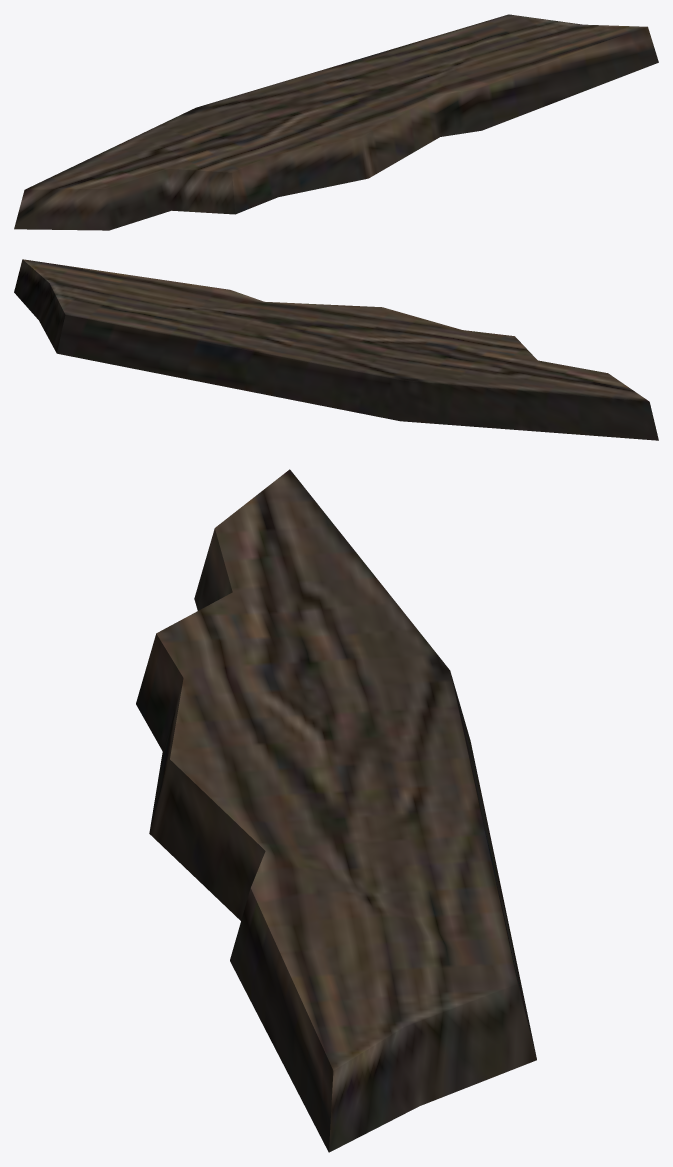
Rendered from Treasure_Wood_02.FBX.
3 views of the same model, one above another, from view 1: azimuth 30°, elevation 25°; view 2: azimuth 150°, elevation 25°; view 3: azimuth 270°, elevation 25° (orthographic). The views are drawn at different scales.
Visible parts, largest first — view 1: Treasure_Wood_02; view 2: Treasure_Wood_02; view 3: Treasure_Wood_02.
Boxes of the visible parts, x1=… form: Treasure_Wood_02: x1=14, y1=14, x2=658, y2=230; Treasure_Wood_02: x1=14, y1=259, x2=658, y2=440; Treasure_Wood_02: x1=136, y1=469, x2=536, y2=1152.
Size of the model in its own units: 2.01 by 0.11 by 0.5507.
